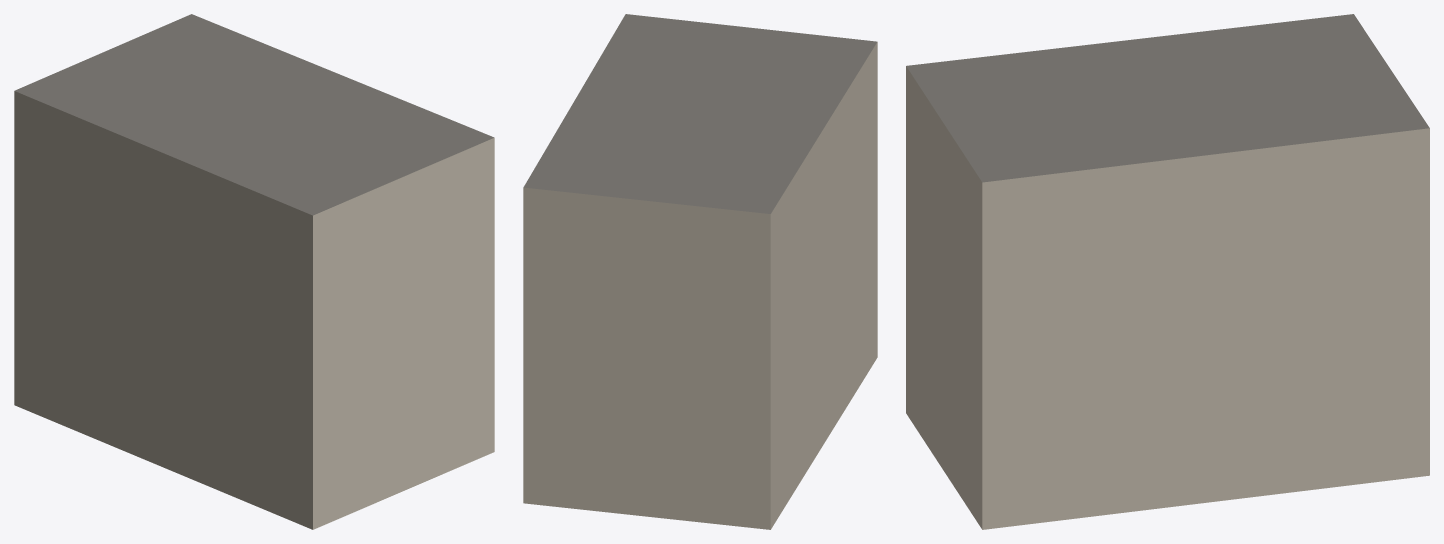
The picture shows the model from 3 angles, left to right: view 1: azimuth 30°, elevation 25°; view 2: azimuth 150°, elevation 25°; view 3: azimuth 270°, elevation 25°; orthographic projection. The views are drawn at different scales.
Visible parts, largest first — view 1: HP-w1197685192; view 2: HP-w1197685192; view 3: HP-w1197685192.
Part boxes in pixels (x1,y1,x2,y2): HP-w1197685192: [14, 14, 494, 529]; HP-w1197685192: [523, 14, 877, 529]; HP-w1197685192: [906, 14, 1429, 529].
Size of the model in its own units: 18.72 by 18 by 24.59.
